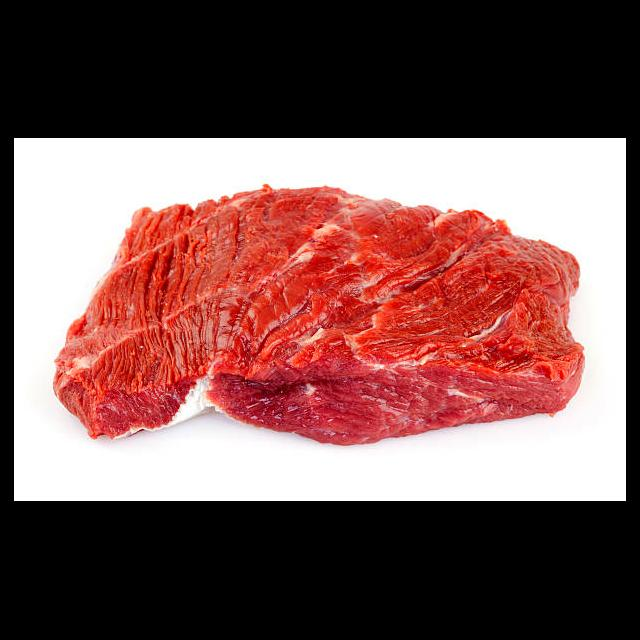beef: (53, 184, 587, 448)
